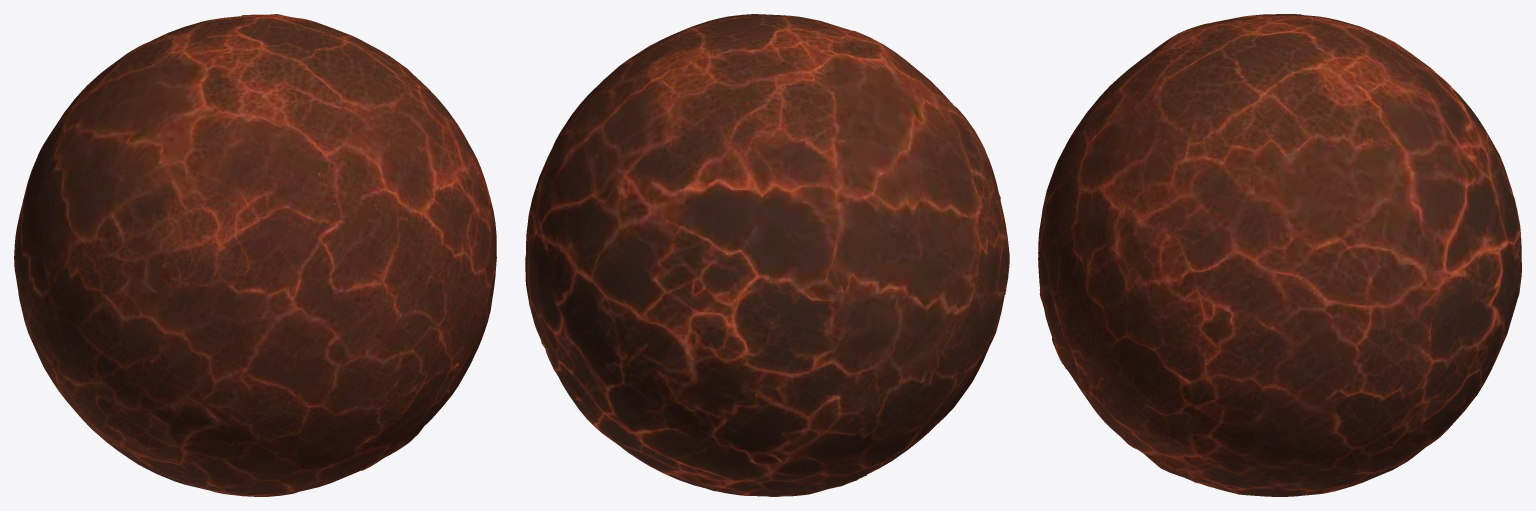
The model's file is test_planet_modal.glb.
3 views of the same model, side by side, from view 1: azimuth 30°, elevation 25°; view 2: azimuth 150°, elevation 25°; view 3: azimuth 270°, elevation 25° (orthographic).
Size of the model in its own units: 1.9 by 1.9 by 1.9.
1 material, 1 textured.
